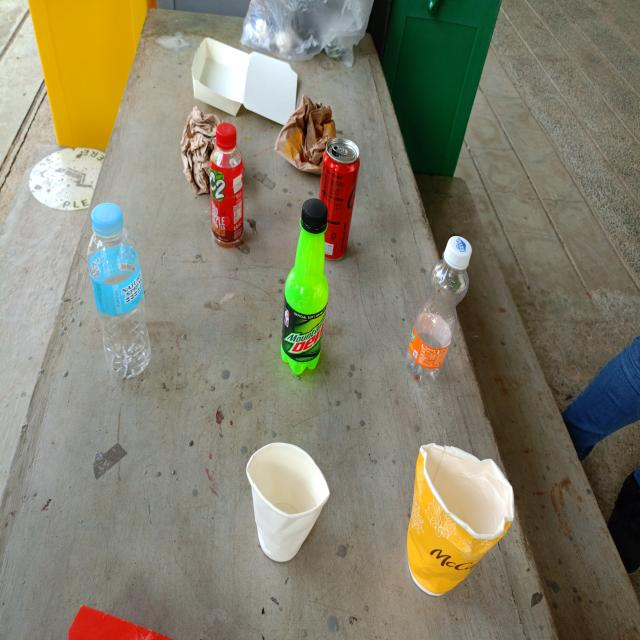Anorganik: (87, 204, 152, 378), (408, 234, 472, 384), (280, 195, 330, 376), (316, 137, 362, 262), (208, 117, 245, 246)
Organik: (407, 441, 514, 596), (245, 440, 331, 563), (190, 33, 300, 123), (269, 96, 338, 175), (180, 110, 222, 192)
